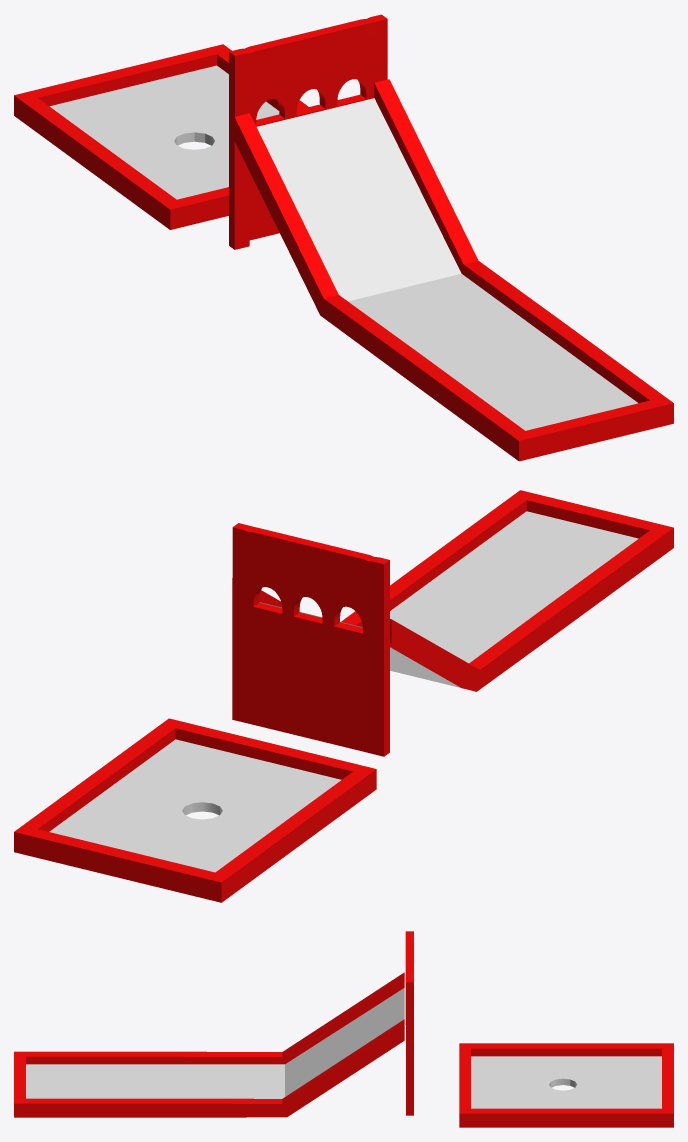
File: BahnM6.fbx
The picture shows the model from 3 angles, top to bottom: view 1: azimuth 30°, elevation 25°; view 2: azimuth 150°, elevation 25°; view 3: azimuth 270°, elevation 25°; orthographic projection. The views are drawn at different scales.
Parts seen in each view (by area): view 1: Track6; view 2: Track6; view 3: Track6.
Part boxes in pixels (x1,y1,x2,y2): Track6: (14, 14, 673, 461); Track6: (14, 490, 673, 902); Track6: (14, 931, 673, 1127).
Bounding box in the file's own units: 118 × 105 × 467.
